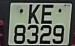2: (39, 24, 53, 46)
3: (27, 25, 40, 45)
8: (13, 24, 28, 46)
9: (53, 24, 66, 46)
F: (40, 3, 56, 26)
K: (28, 4, 44, 26)
